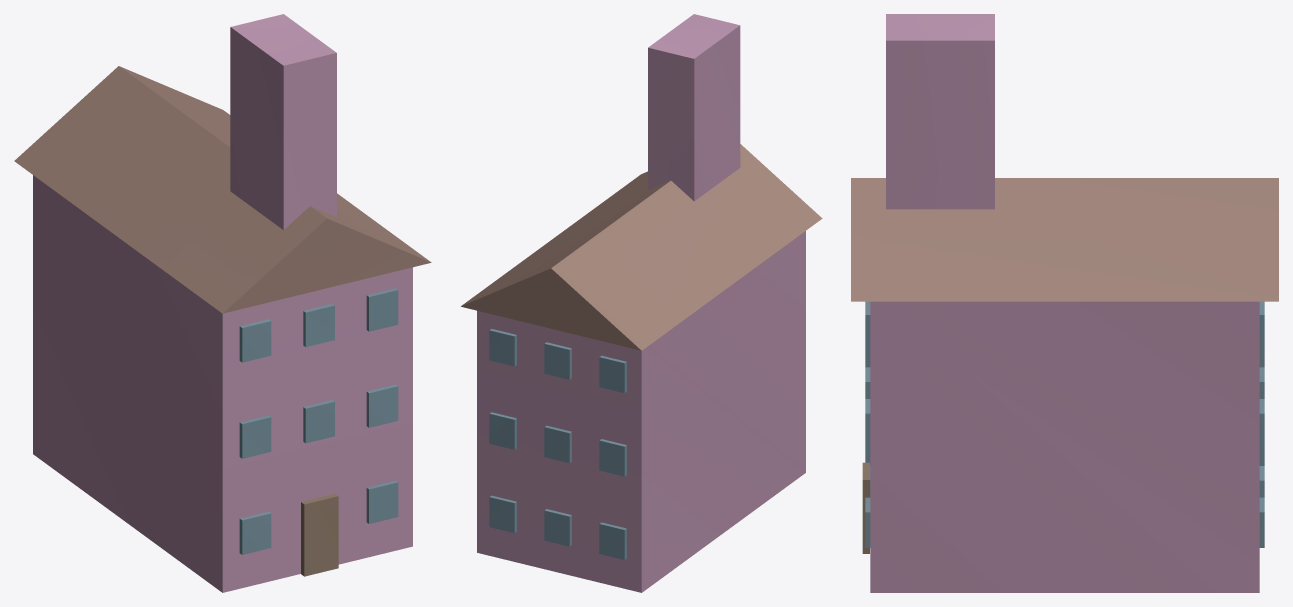
File: church-04.glb
3 views of the same model, side by side, from view 1: azimuth 30°, elevation 25°; view 2: azimuth 150°, elevation 25°; view 3: azimuth 270°, elevation 25° (orthographic). The views are drawn at different scales.
Parts seen in each view (by area): view 1: world; view 2: world; view 3: world.
Part boxes in pixels (<box>): world: <box>14,14,431,592</box>; world: <box>461,14,822,592</box>; world: <box>851,14,1278,592</box>.
Bounding box in the file's own units: 1.21 × 2.8 × 2.09.
